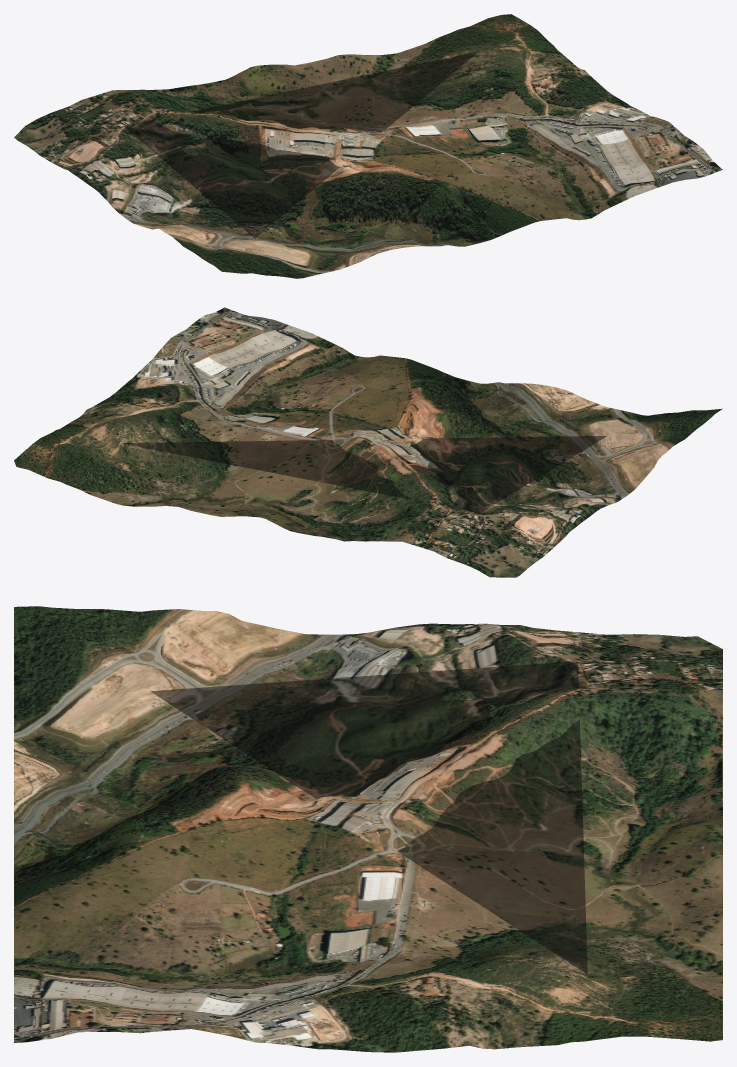
The picture shows the model from 3 angles, top to bottom: view 1: azimuth 30°, elevation 25°; view 2: azimuth 150°, elevation 25°; view 3: azimuth 270°, elevation 25°; orthographic projection. The views are drawn at different scales.
Parts seen in each view (by area): view 1: TerrainNode_0, GPX_2; view 2: TerrainNode_0, GPX_2; view 3: TerrainNode_0, GPX_2.
Part boxes in pixels (x1,y1,x2,y2): TerrainNode_0: (14, 14, 722, 278); GPX_2: (124, 51, 478, 238); TerrainNode_0: (14, 307, 722, 577); GPX_2: (122, 435, 607, 512); TerrainNode_0: (14, 606, 722, 1052); GPX_2: (150, 661, 587, 974).
Bounding box in the file's own units: 14.27 × 1.19 × 10.62.
2 materials, 1 textured.
